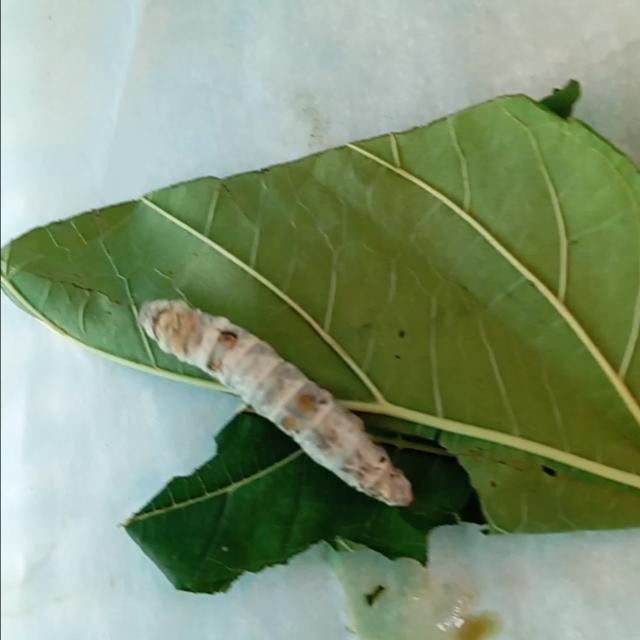Grasserie: (128, 273, 434, 529)
